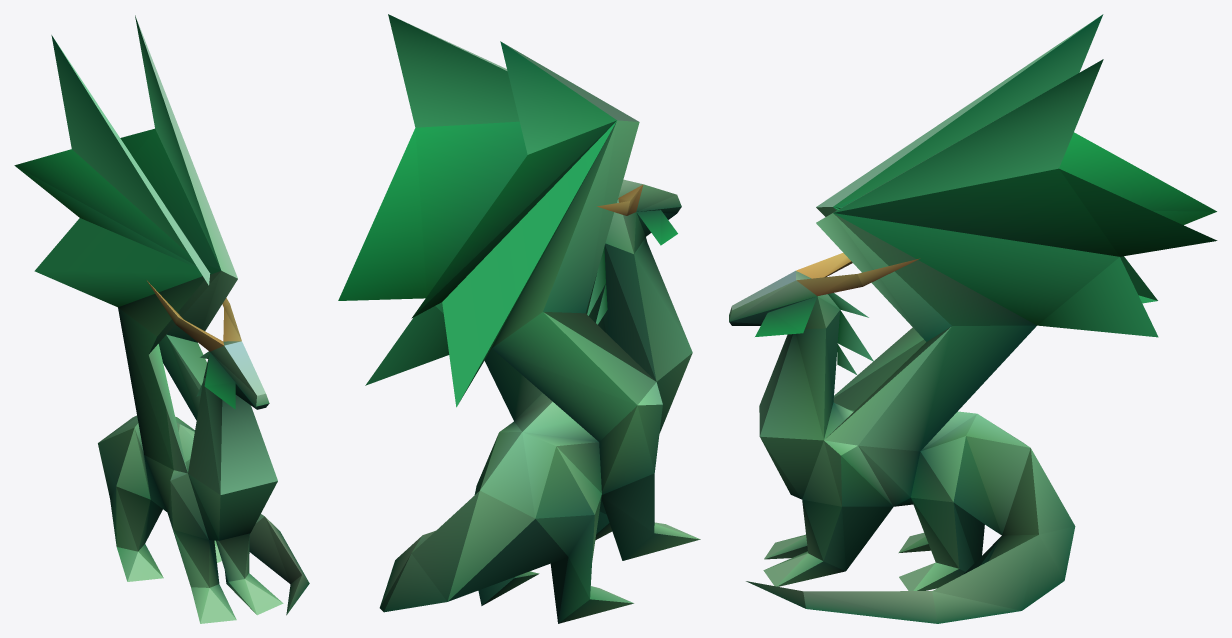
The model's file is dragon.dae.
The picture shows the model from 3 angles, left to right: view 1: azimuth 30°, elevation 25°; view 2: azimuth 150°, elevation 25°; view 3: azimuth 270°, elevation 25°; orthographic projection. The views are drawn at different scales.
Visible parts, largest first — view 1: Channel_4; view 2: Channel_4; view 3: Channel_4.
Part boxes in pixels (x1,y1,x2,y2): Channel_4: (14,15,309,623); Channel_4: (338,14,700,623); Channel_4: (729,14,1217,623).
Bounding box in the file's own units: 591 × 1638 × 1372.
